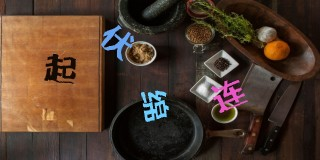伏: (99, 23, 135, 61)
绵: (140, 85, 170, 124)
起: (43, 53, 79, 85)
连: (210, 80, 249, 114)
